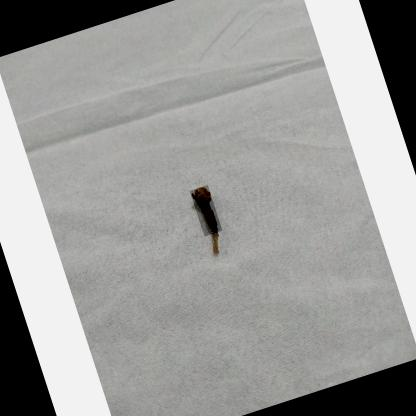sedang: (192, 187, 219, 233)
